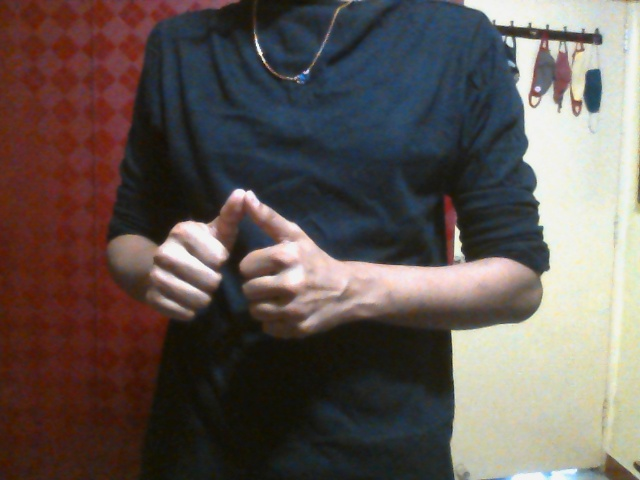A: (142, 185, 354, 340)
